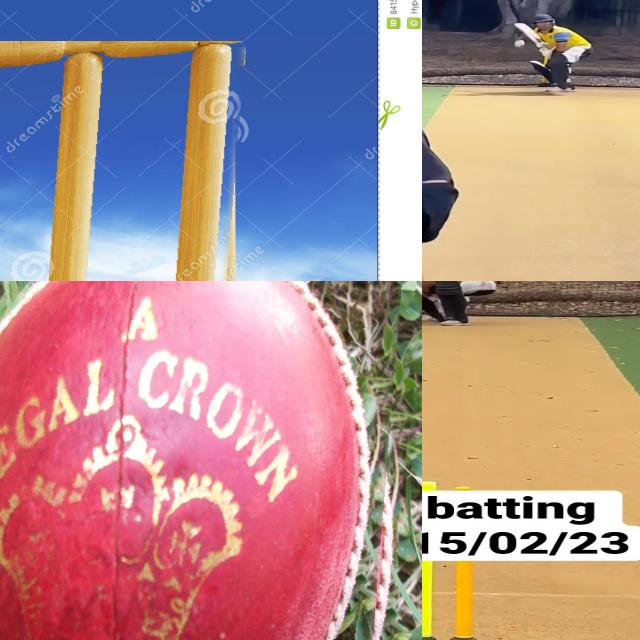Cricket ball: (0, 281, 408, 640), (513, 40, 526, 48)
Stumps: (0, 41, 248, 281), (422, 561, 493, 640)
